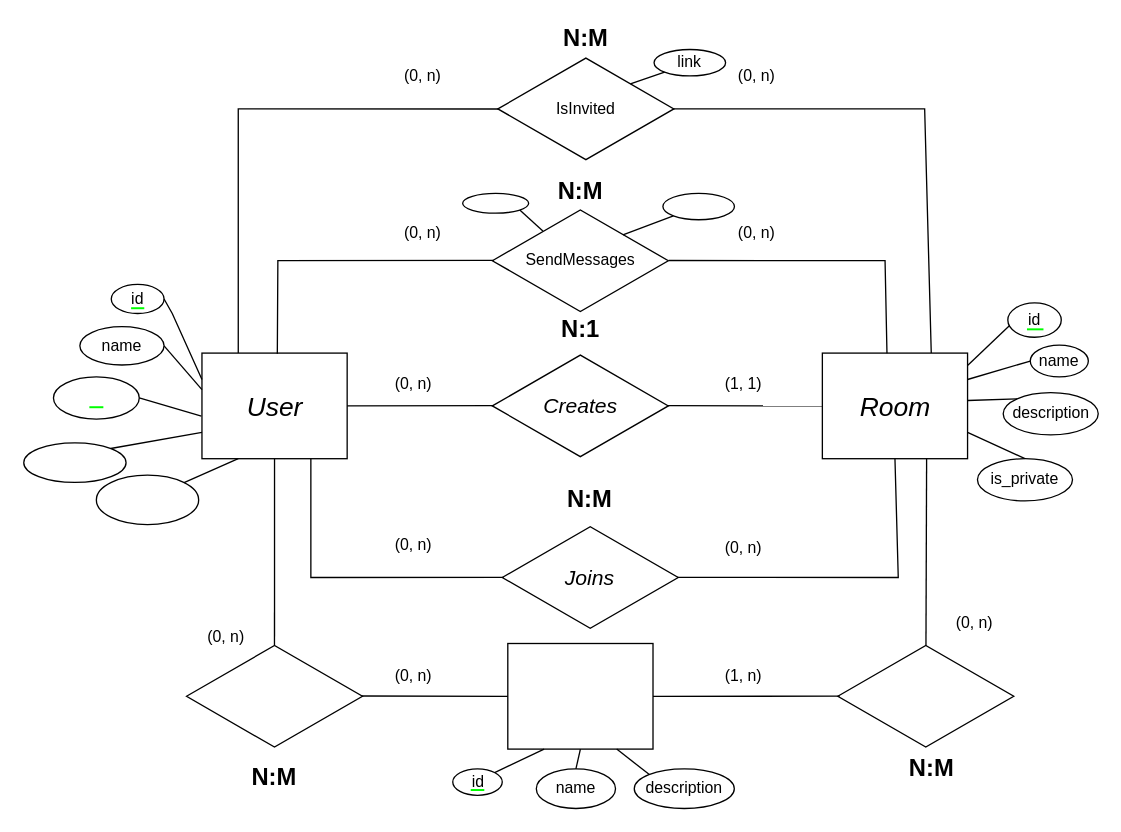
Some shapes in this 1121 by 832 pixel diagram are drawn without their labels. Each missing label, with the centre of its shape:
content: [698,206]
date: [495,202]
email: [95,397]
Has: [925,695]
IsAssigned: [273,695]
password: [74,462]
Role: [579,695]
username: [147,499]
